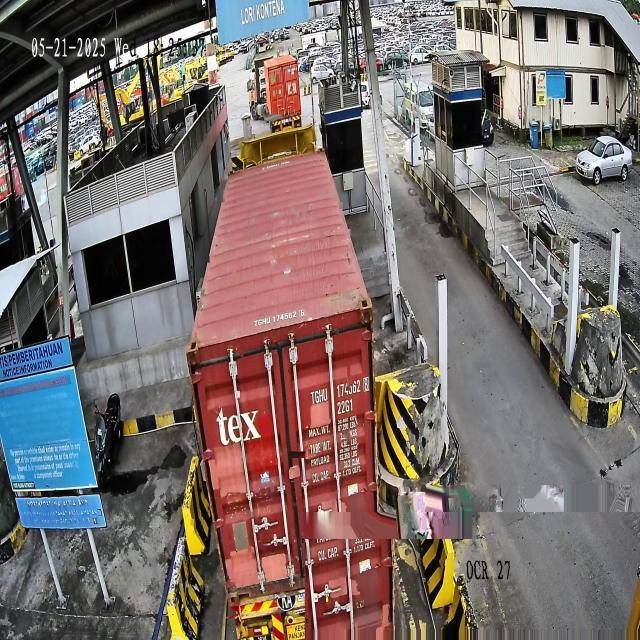ISO: (336, 398, 354, 415)
container_number: (310, 374, 368, 404)
